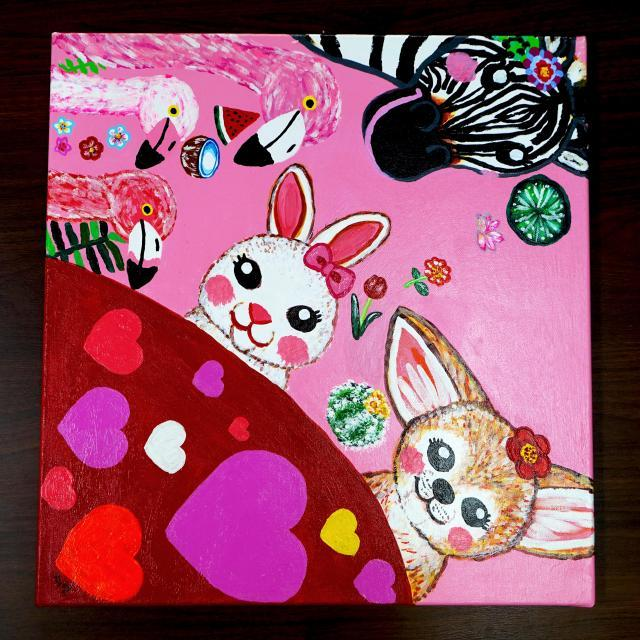painting: (35, 32, 595, 606)
